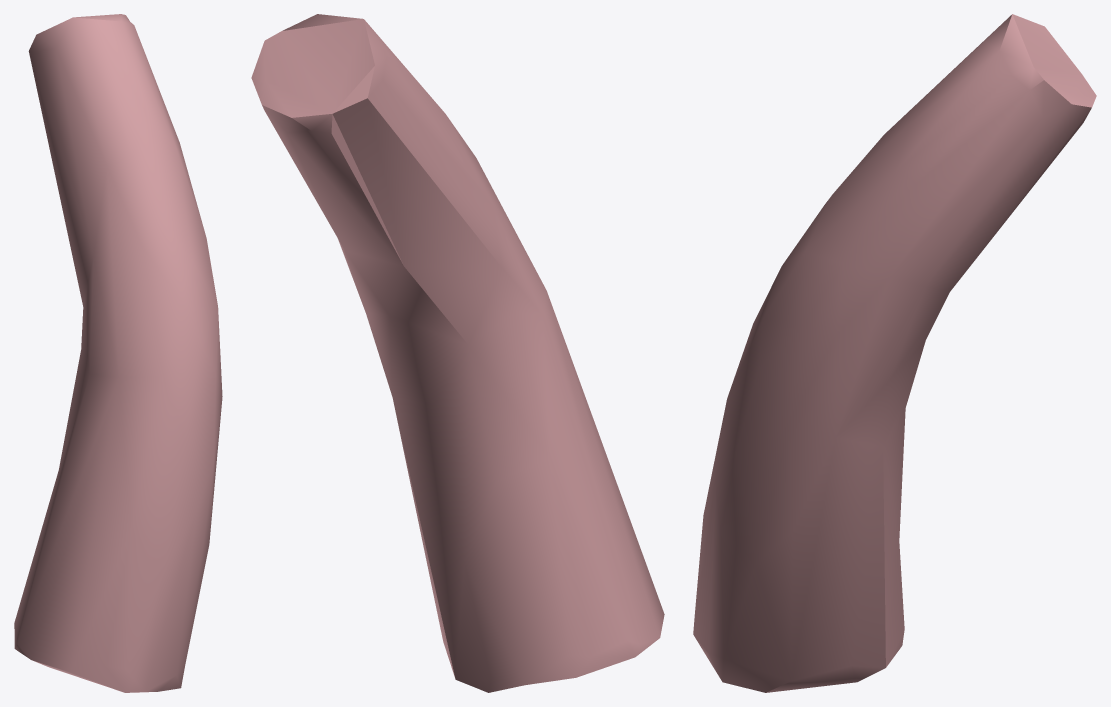
The model's file is fma68211_fj2525.glb.
3 views of the same model, side by side, from view 1: azimuth 30°, elevation 25°; view 2: azimuth 150°, elevation 25°; view 3: azimuth 270°, elevation 25° (orthographic). The views are drawn at different scales.
Parts seen in each view (by area): view 1: FMA68211_FJ2525; view 2: FMA68211_FJ2525; view 3: FMA68211_FJ2525.
Part boxes in pixels (x1,y1,x2,y2): FMA68211_FJ2525: (14,14,222,692); FMA68211_FJ2525: (251,14,664,692); FMA68211_FJ2525: (693,14,1096,692).
Size of the model in its own units: 0.00336 by 0.00877 by 0.00471.
